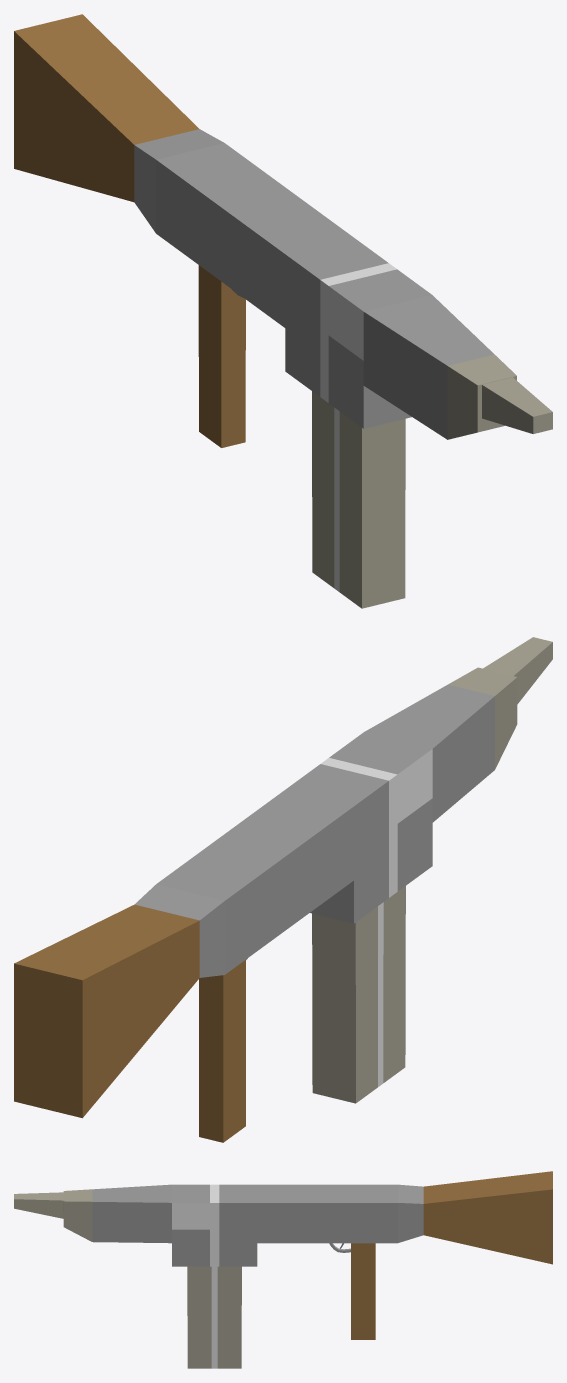
Rendered from MachinePistol1 1.fbx.
The picture shows the model from 3 angles, top to bottom: view 1: azimuth 30°, elevation 25°; view 2: azimuth 150°, elevation 25°; view 3: azimuth 270°, elevation 25°; orthographic projection. The views are drawn at different scales.
Parts seen in each view (by area): view 1: Cube; view 2: Cube; view 3: Cube.
Boxes of the visible parts, x1,y1,x2,y2 form: Cube: (14,14,552,608); Cube: (14,637,552,1142); Cube: (14,1171,552,1368).
Bounding box in the file's own units: 101 × 471 × 1259.
